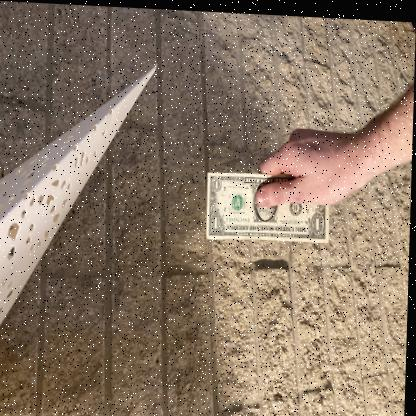one-front: (207, 167, 332, 242)
